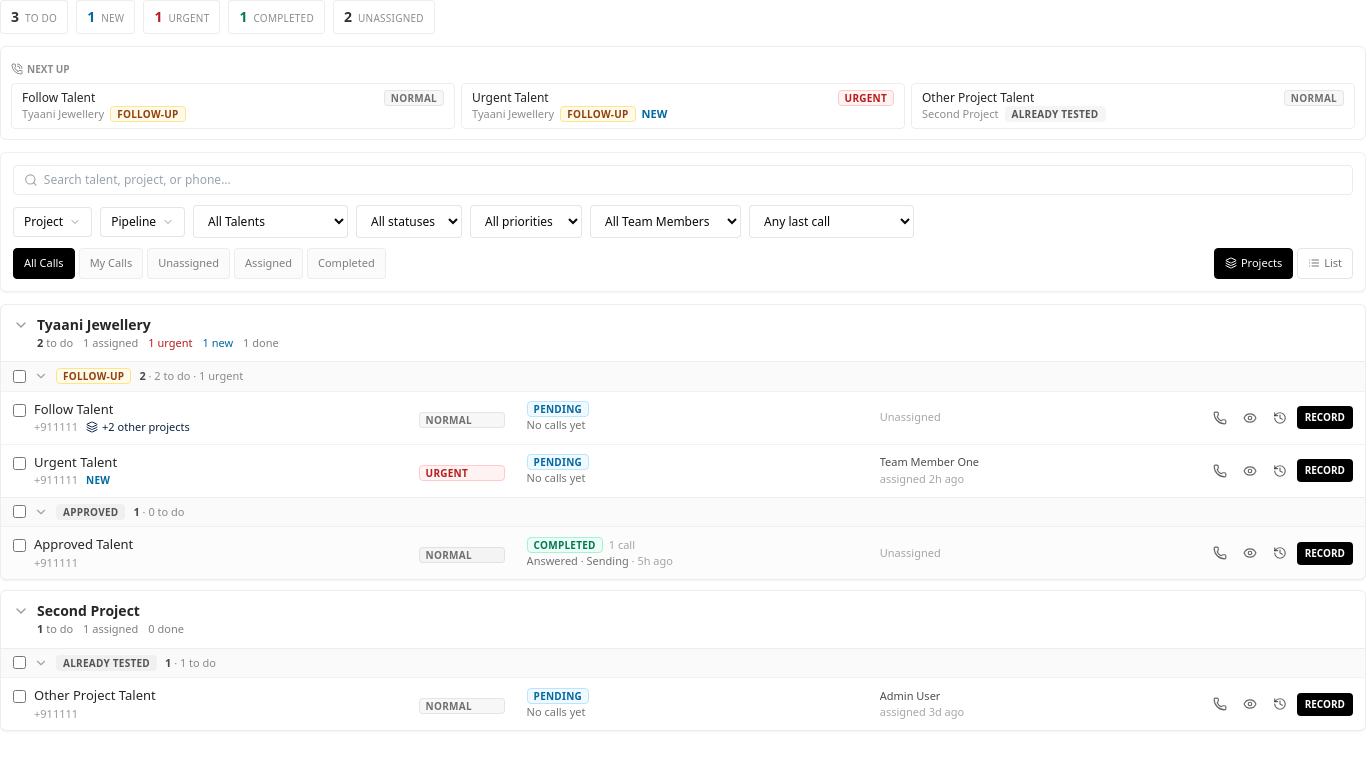
Calls — other ongoing projects for the same talent › flags a talent who is in other ongoing projects, and opens their details
Click the button with test id "call-other-projects": [138, 427] box [86,419,190,436]
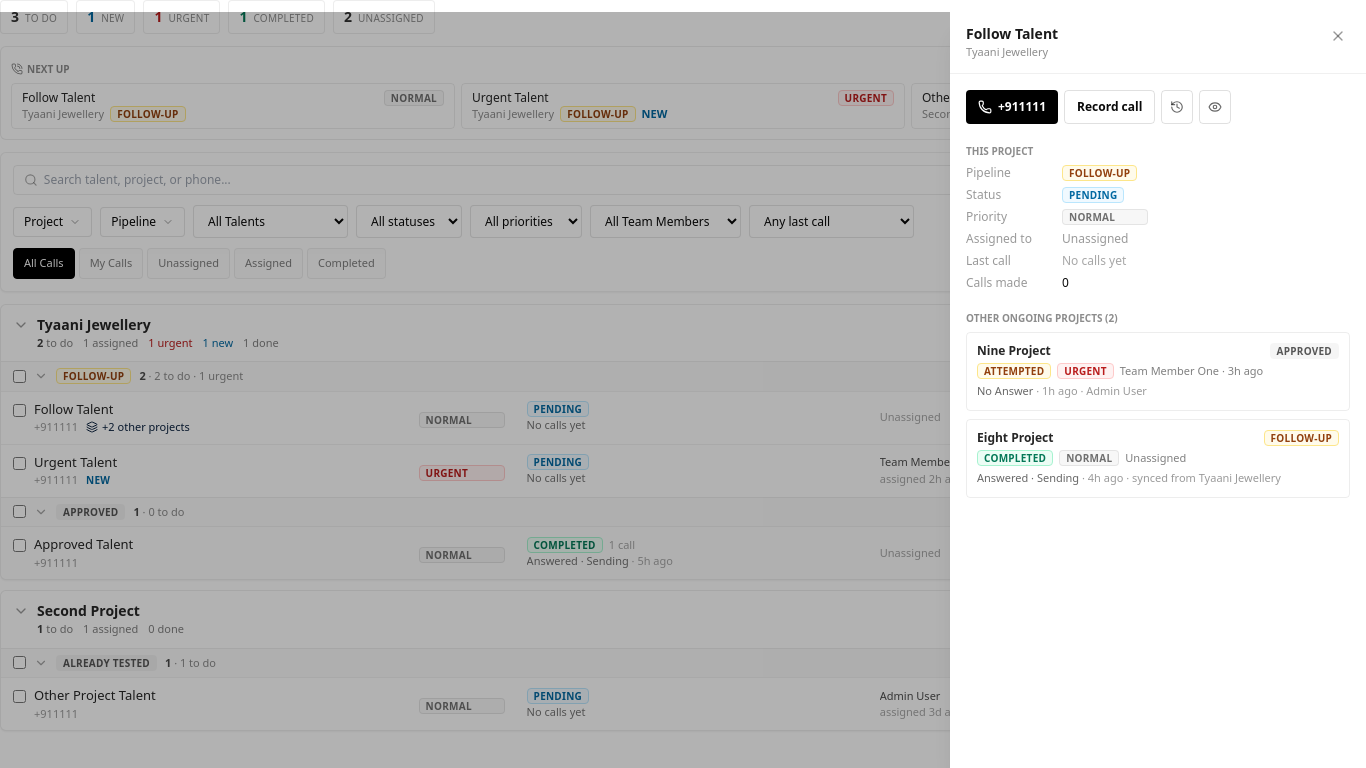
Expected: the list item with test id "other-project-p-9" is shown, [966,332,1350,410]
Expected: the list item with test id "other-project-p-9" shows "Nine Project", [977,342,1051,358]
Expected: the list item with test id "other-project-p-9" shows "APPROVED", [1277,344,1332,358]
